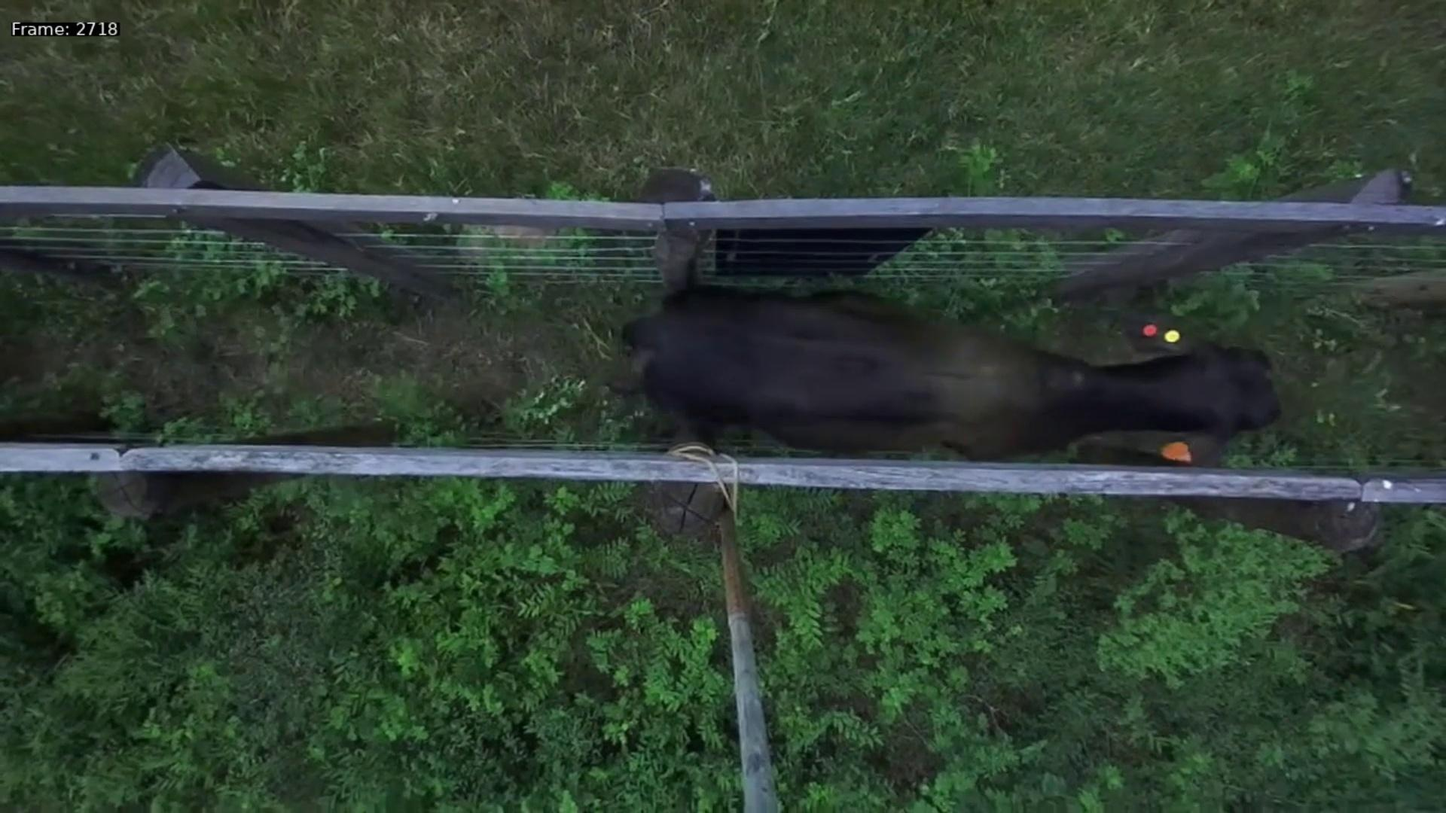cattle: (607, 262, 1298, 489)
